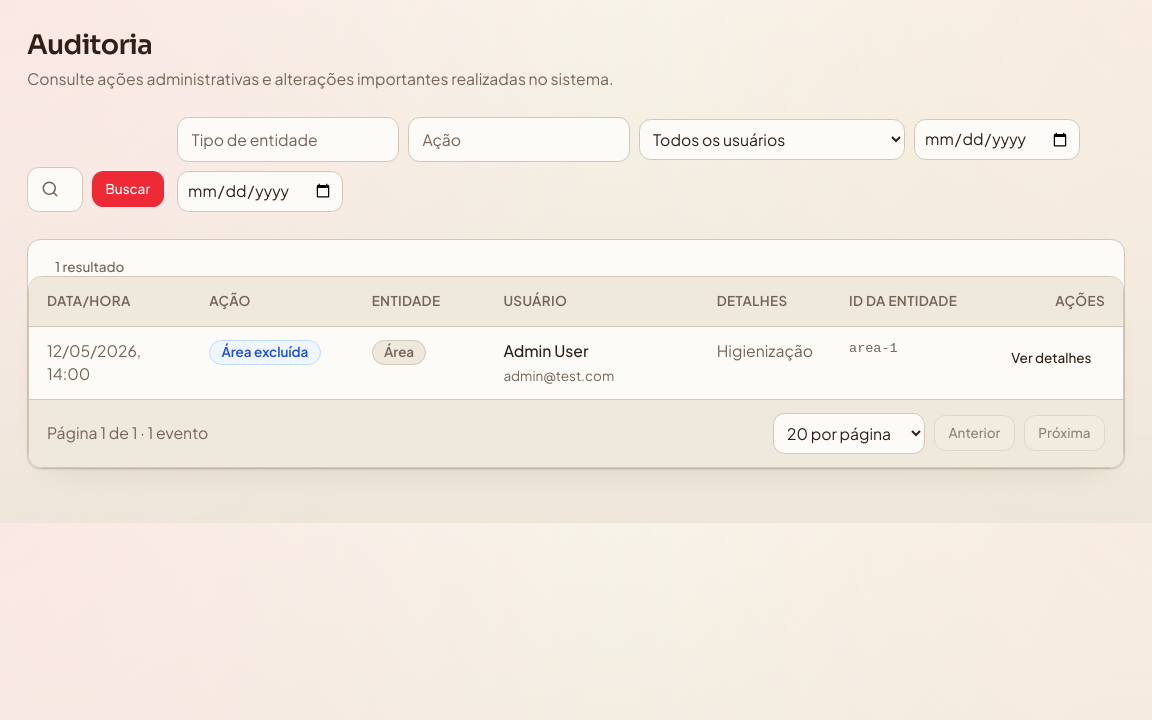
AuditLogsPage › abre o modal de detalhes do evento
Expected: the text "Área excluída" is shown, left=209, top=340, right=320, bottom=364
Click the button "Ver detalhes".
click(1051, 358)  # box left=998, top=340, right=1105, bottom=376
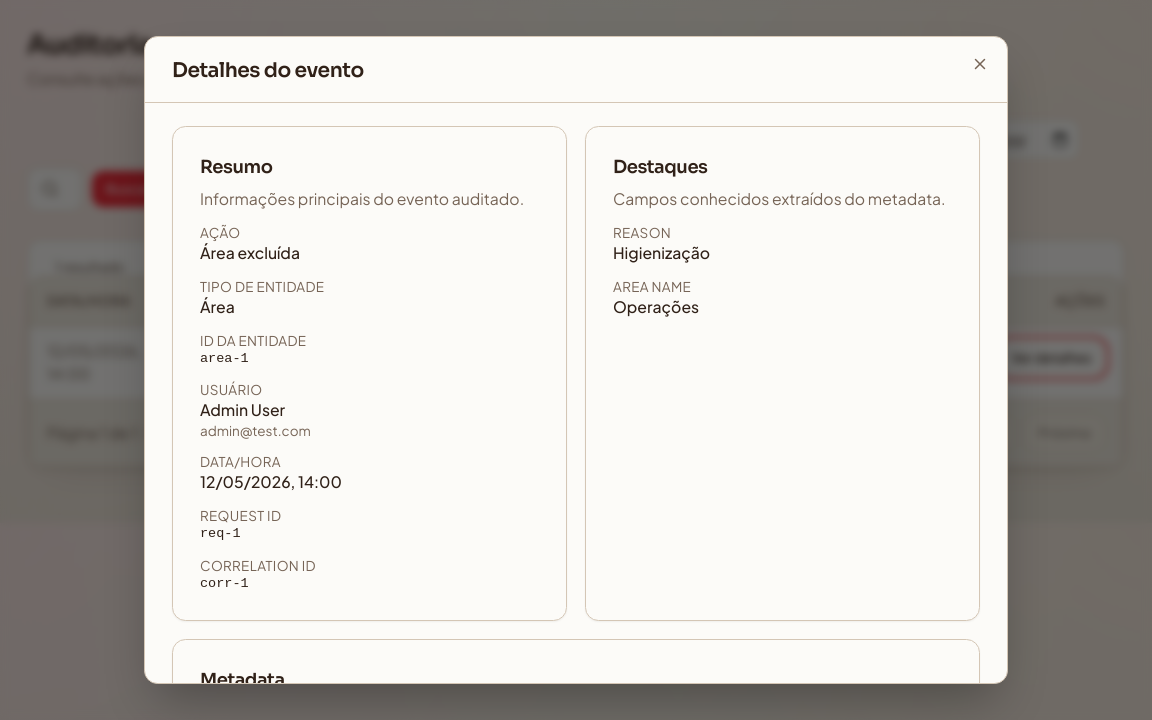
Now the dialog "Detalhes do evento" is shown
Now the heading "Metadata" is shown, box left=200, top=668, right=284, bottom=683
Now the heading "Destaques" is shown, box left=613, top=156, right=708, bottom=178
